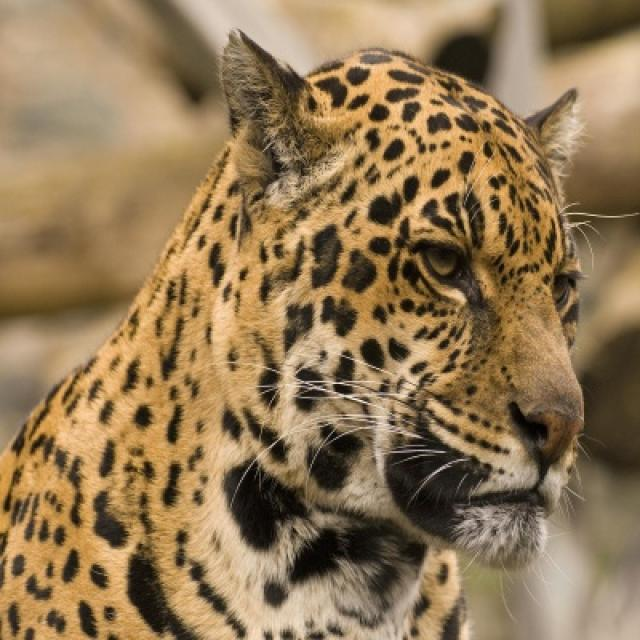Jaguar: (0, 29, 586, 638)
